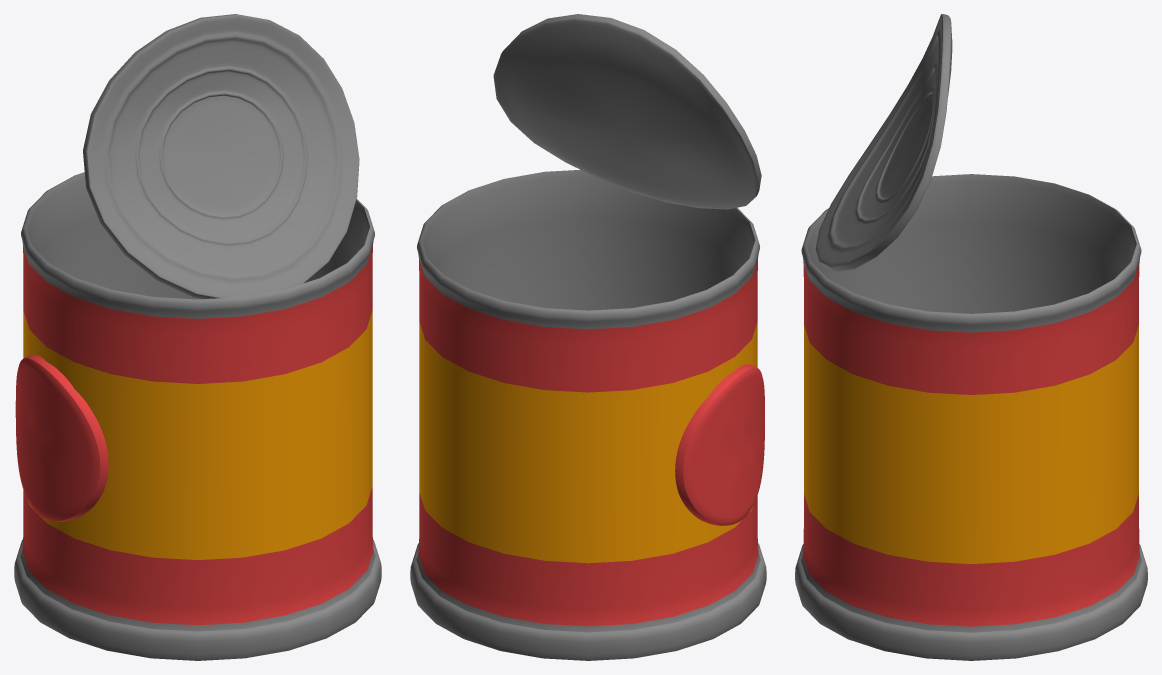
Rendered from Can.fbx.
3 views of the same model, side by side, from view 1: azimuth 30°, elevation 25°; view 2: azimuth 150°, elevation 25°; view 3: azimuth 270°, elevation 25° (orthographic). The views are drawn at different scales.
Visible parts, largest first — view 1: Can; view 2: Can; view 3: Can.
Part boxes in pixels (x1=…): Can: x1=14, y1=14, x2=381, y2=660; Can: x1=410, y1=14, x2=766, y2=660; Can: x1=795, y1=14, x2=1147, y2=660.
Size of the model in its own units: 1.25 by 2.19 by 1.25.
